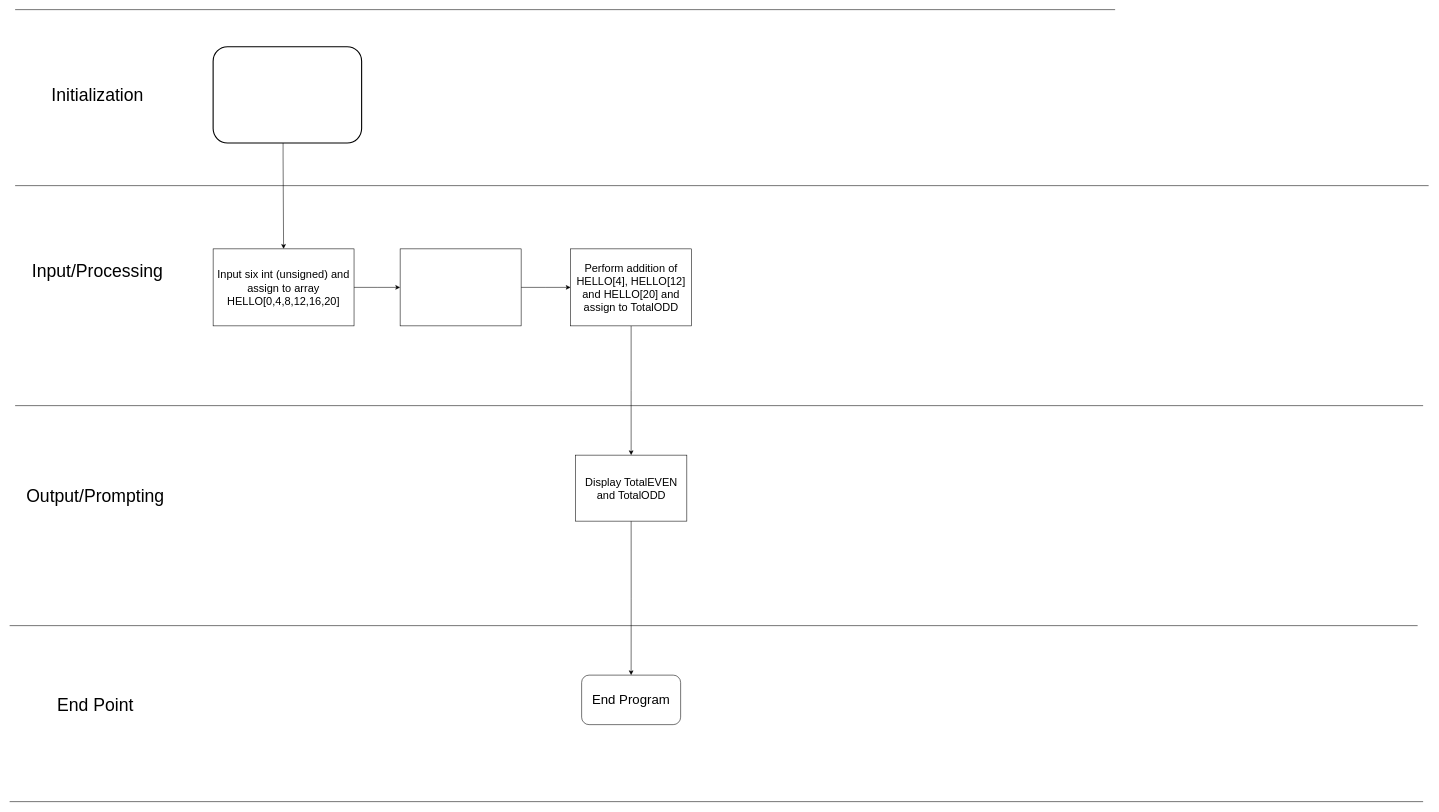
Some shapes in this 1439 by 812 pixel diagram are drawn without their labels. Here are the shapes that lost their labels. From the top down, the box of each, then its label:
(212, 46, 362, 143): Define HELLO[6], TotalEVEN, TotalODD
(400, 248, 521, 326): Perform addition of HELLO[0], HELLO[8] and HELLO[16] and assign to TotalEVEN
